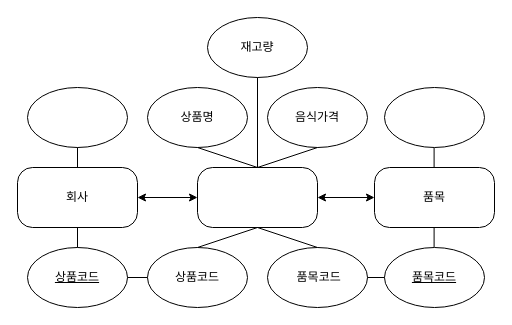
Image size: 512x325. Some labels were removed from this diagram. Each missing label, with the centre of its shape:
"관리테이블" goes at [257,197].
"품목명칭" goes at [434,117].
"회사명칭" goes at [77,117].
